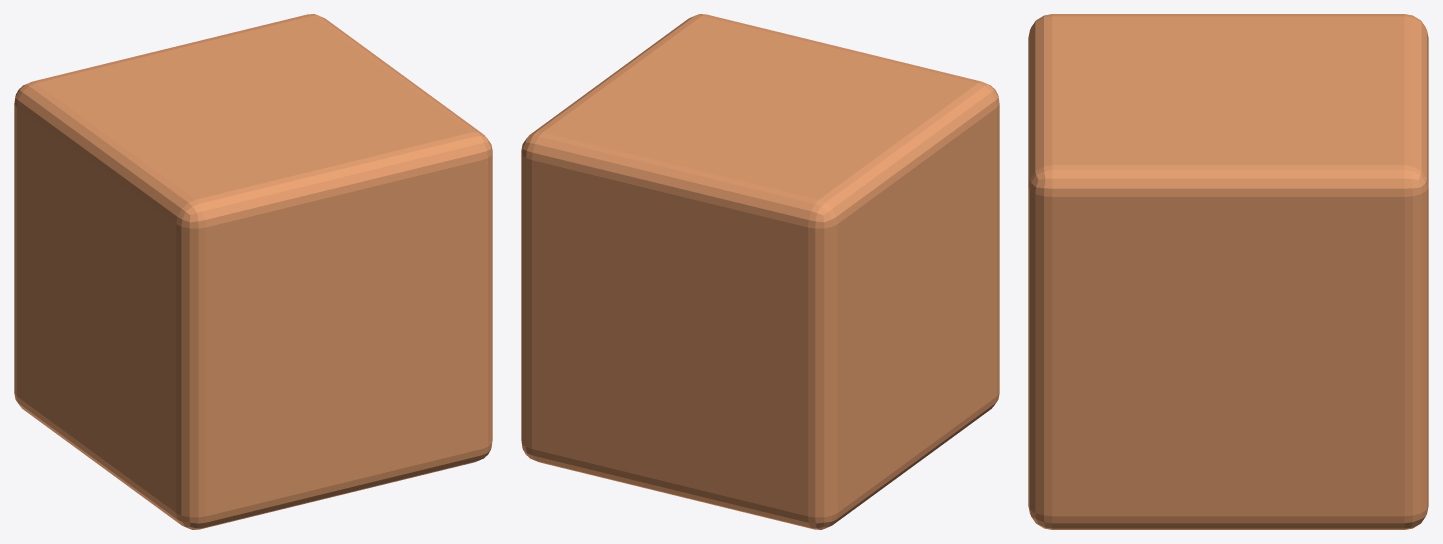
The model's file is fixed-ceiling-box.fbx.
3 renders of one model, left to right at view 1: azimuth 30°, elevation 25°; view 2: azimuth 150°, elevation 25°; view 3: azimuth 270°, elevation 25°, orthographic. The views are drawn at different scales.
Visible parts, largest first — view 1: fixed_boxes; view 2: fixed_boxes; view 3: fixed_boxes.
Boxes of the visible parts, left/top/right/bottom form: fixed_boxes: left=14, top=14, right=492, bottom=529; fixed_boxes: left=521, top=14, right=999, bottom=529; fixed_boxes: left=1028, top=14, right=1428, bottom=529.
Bounding box in the file's own units: 104 × 104 × 104.
